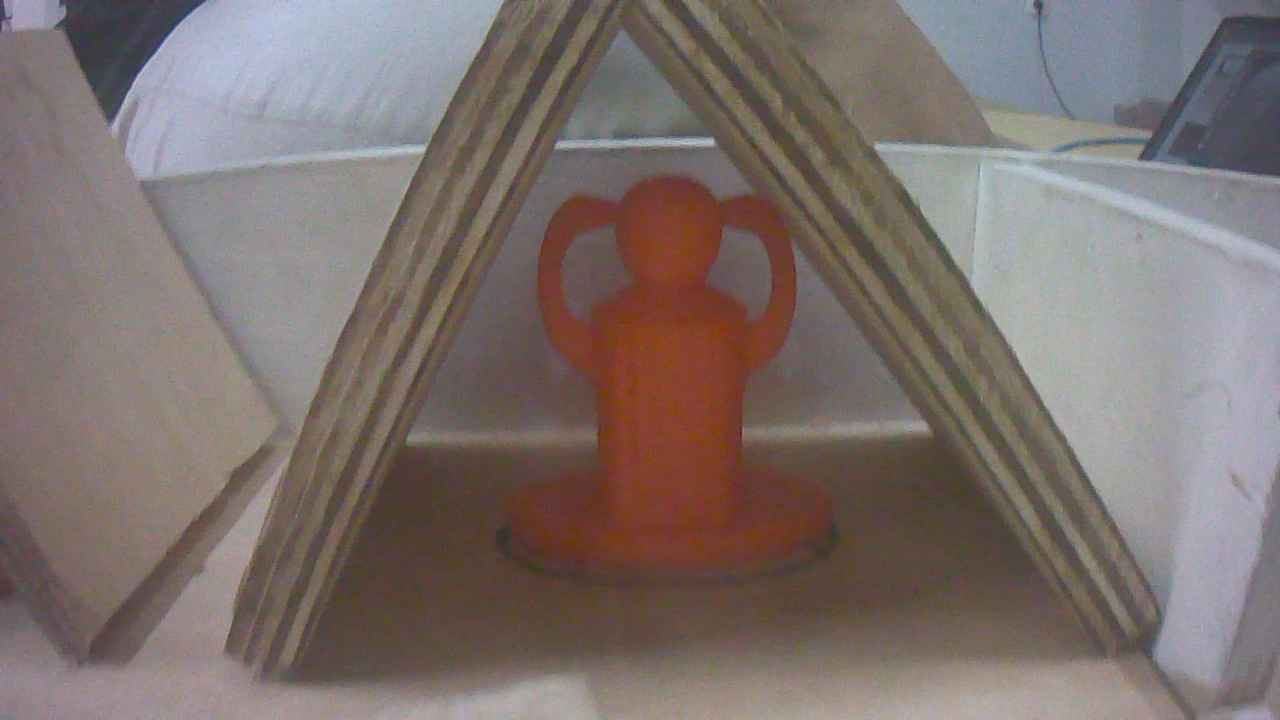real: (504, 175, 834, 583)
